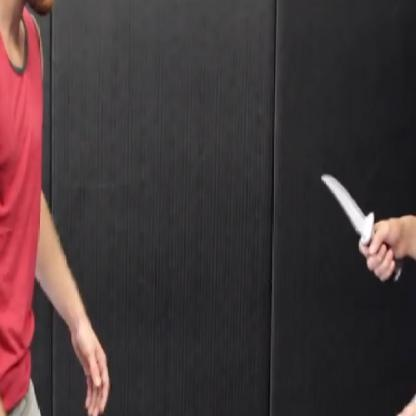knife: (314, 160, 408, 290)
